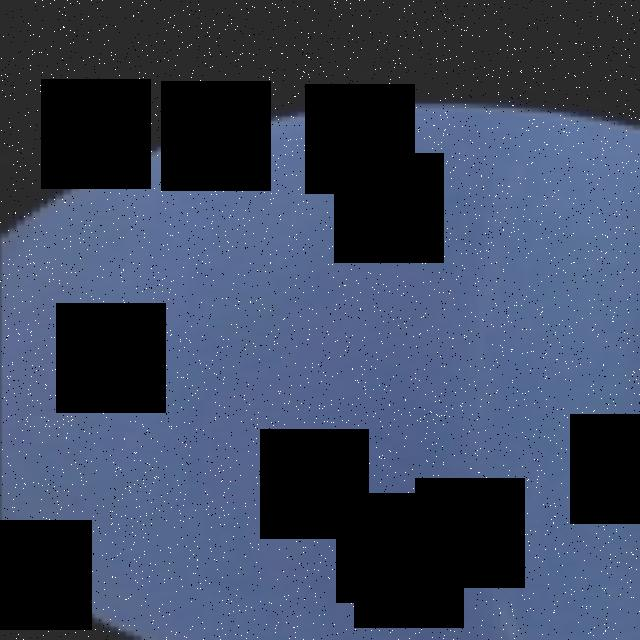Neptune: (0, 100, 640, 640)
